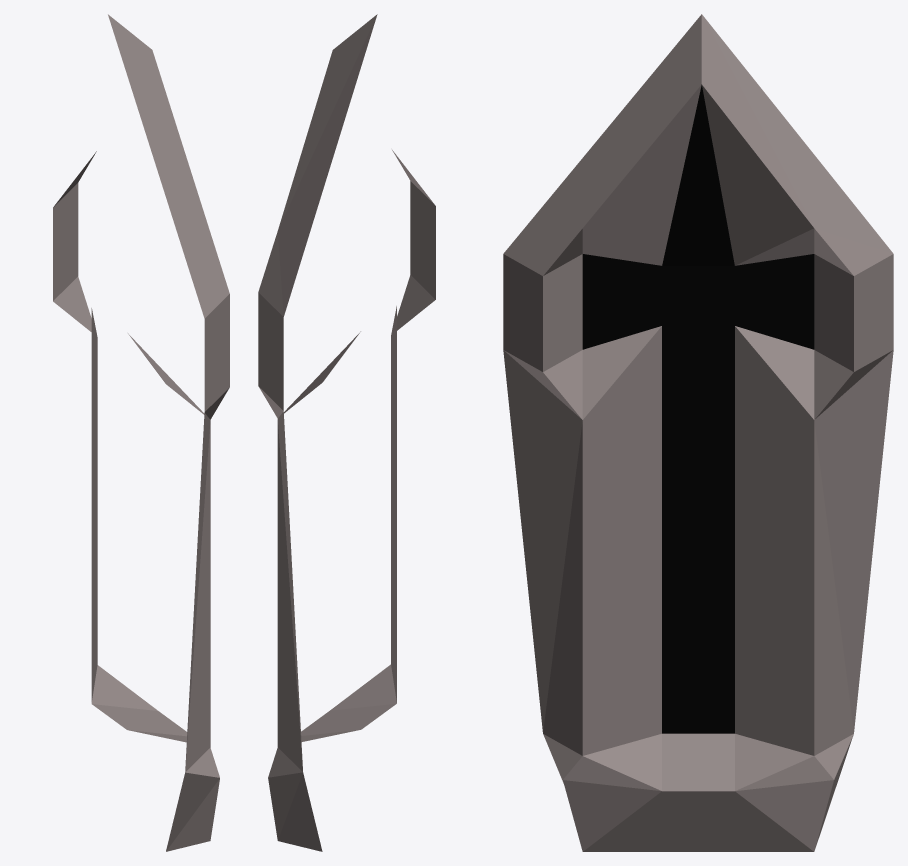
3 views of the same model, side by side, from view 1: azimuth 30°, elevation 25°; view 2: azimuth 150°, elevation 25°; view 3: azimuth 270°, elevation 25° (orthographic). The views are drawn at different scales.
Size of the model in its own units: 12 by 136 by 59.
1 material, 1 textured.
